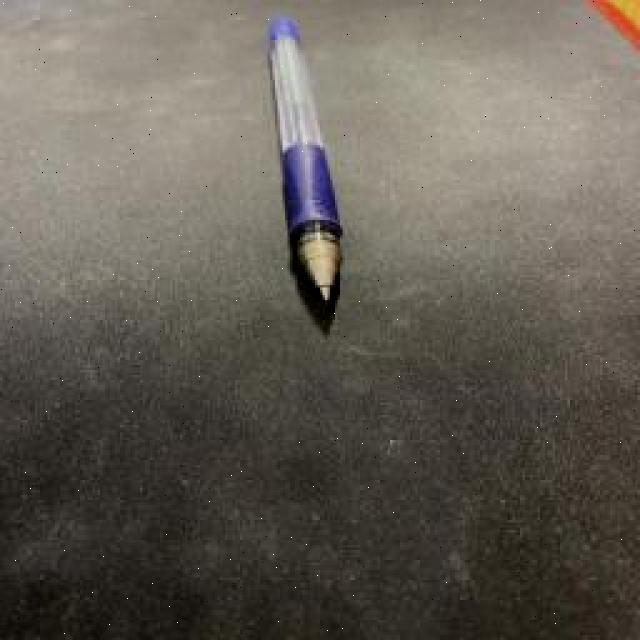pen: (267, 15, 340, 305)
